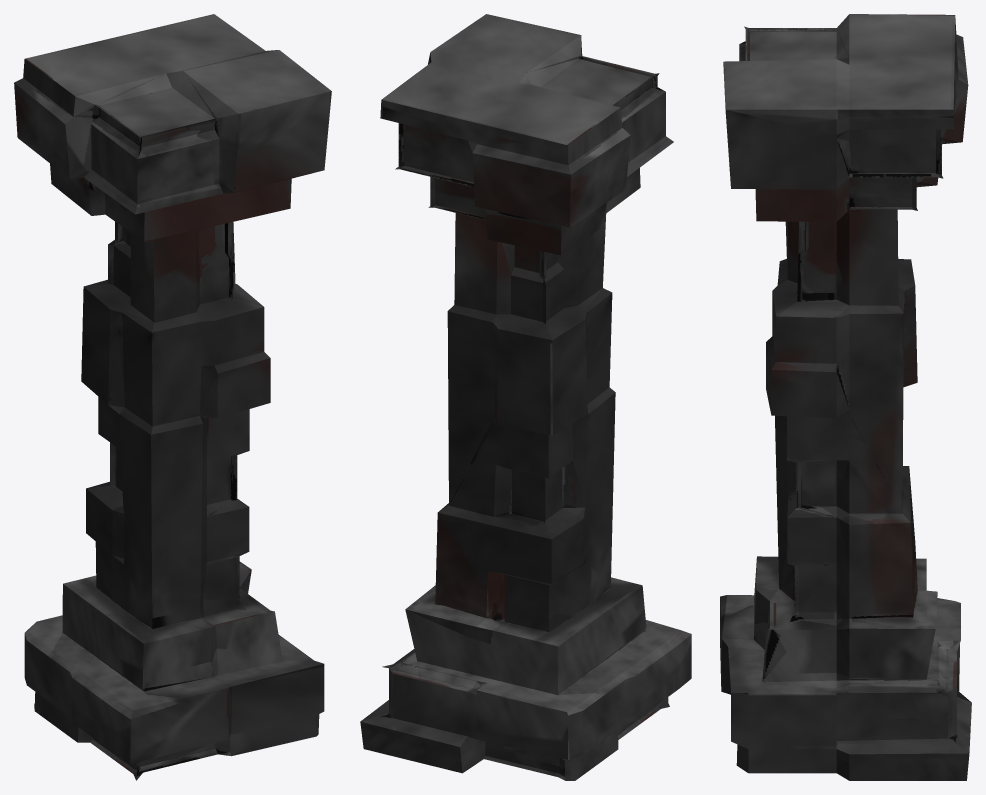
Rendered from Stone_Big_Pillar02.fbx.
The picture shows the model from 3 angles, left to right: view 1: azimuth 30°, elevation 25°; view 2: azimuth 150°, elevation 25°; view 3: azimuth 270°, elevation 25°; orthographic projection. The views are drawn at different scales.
Visible parts, largest first — view 1: Pillar02; view 2: Pillar02; view 3: Pillar02.
Part boxes in pixels (box(x1,y1,x2,y2)): Pillar02: box(14, 14, 331, 780); Pillar02: box(360, 14, 691, 780); Pillar02: box(720, 14, 971, 780).
Bounding box in the file's own units: 107 × 314 × 106.
